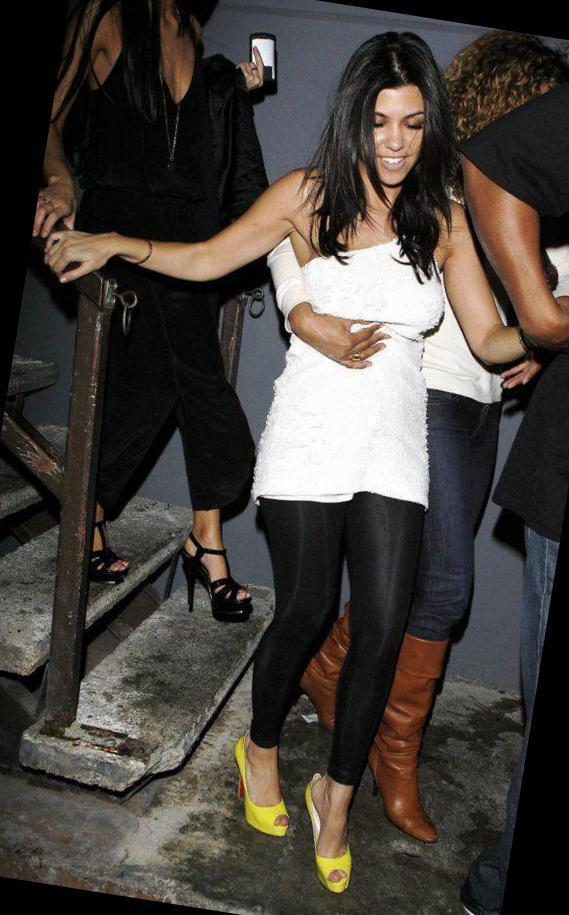Drunk: (349, 82, 435, 189)
